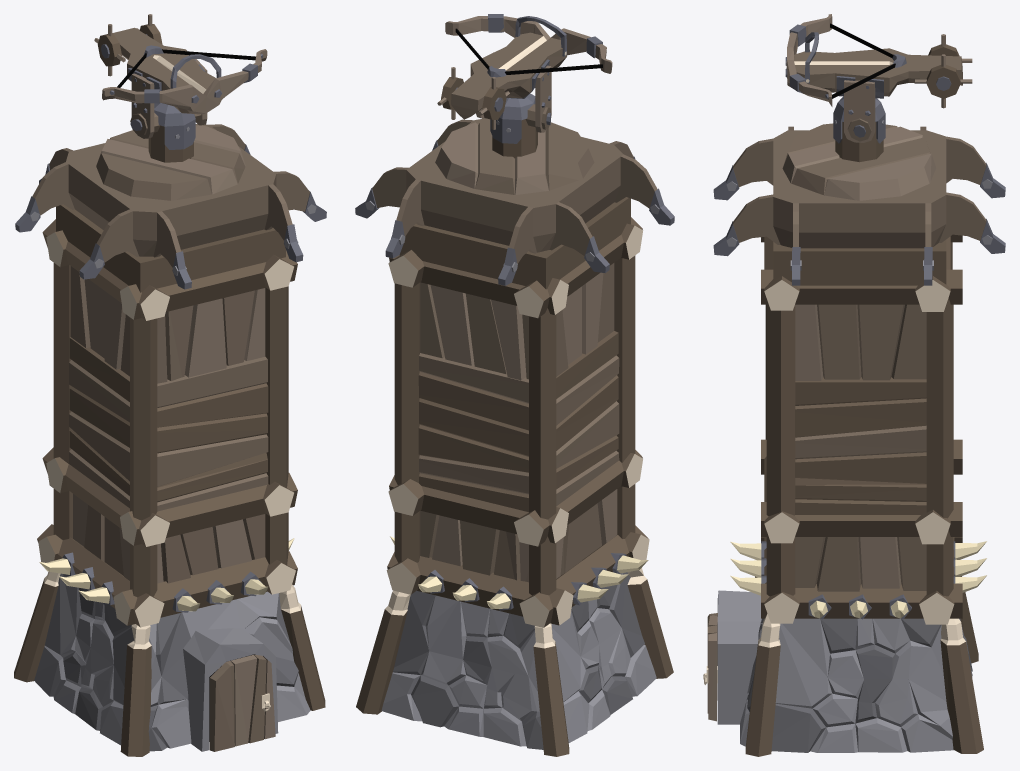
Rendered from _Ballista_tower_LVL_2.fbx.
The picture shows the model from 3 angles, left to right: view 1: azimuth 30°, elevation 25°; view 2: azimuth 150°, elevation 25°; view 3: azimuth 270°, elevation 25°; orthographic projection. The views are drawn at different scales.
Parts seen in each view (by area): view 1: Ballista_tower_LVL_2; view 2: Ballista_tower_LVL_2; view 3: Ballista_tower_LVL_2.
Boxes of the visible parts, <box> form: Ballista_tower_LVL_2: <box>14,14,326,756</box>; Ballista_tower_LVL_2: <box>355,14,674,756</box>; Ballista_tower_LVL_2: <box>703,14,1005,756</box>.
Size of the model in its own units: 684 by 1735 by 708.
